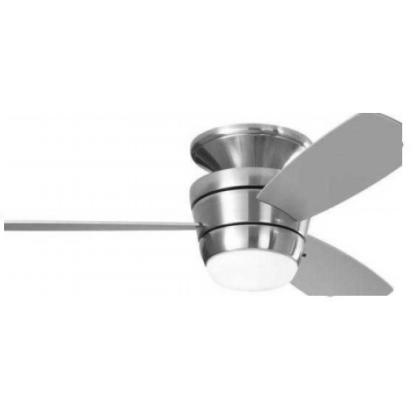ceiling-fan: (4, 113, 403, 297)
